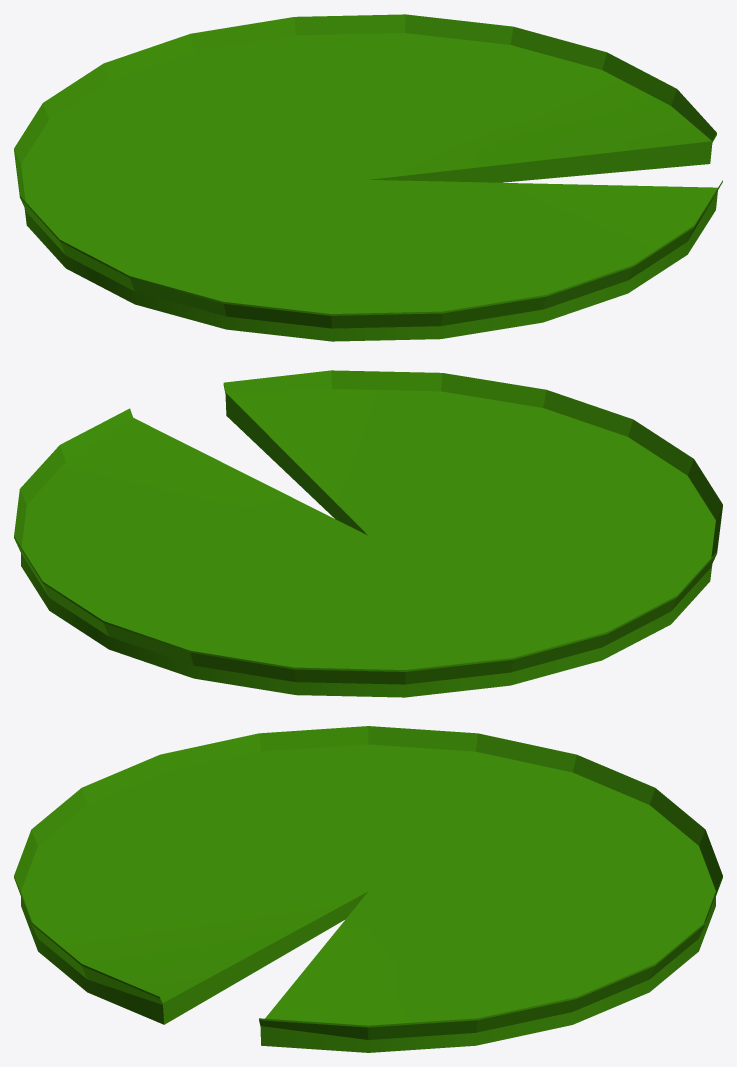
Rendered from VitoriaRegia.fbx.
The picture shows the model from 3 angles, top to bottom: view 1: azimuth 30°, elevation 25°; view 2: azimuth 150°, elevation 25°; view 3: azimuth 270°, elevation 25°; orthographic projection.
Parts seen in each view (by area): view 1: VitoriaRegia_geo; view 2: VitoriaRegia_geo; view 3: VitoriaRegia_geo.
Part boxes in pixels (box(x1,y1,x2,y2)): VitoriaRegia_geo: box(14, 14, 722, 341); VitoriaRegia_geo: box(14, 370, 722, 697); VitoriaRegia_geo: box(14, 726, 722, 1052).
Bounding box in the file's own units: 153 × 7.21 × 153.
